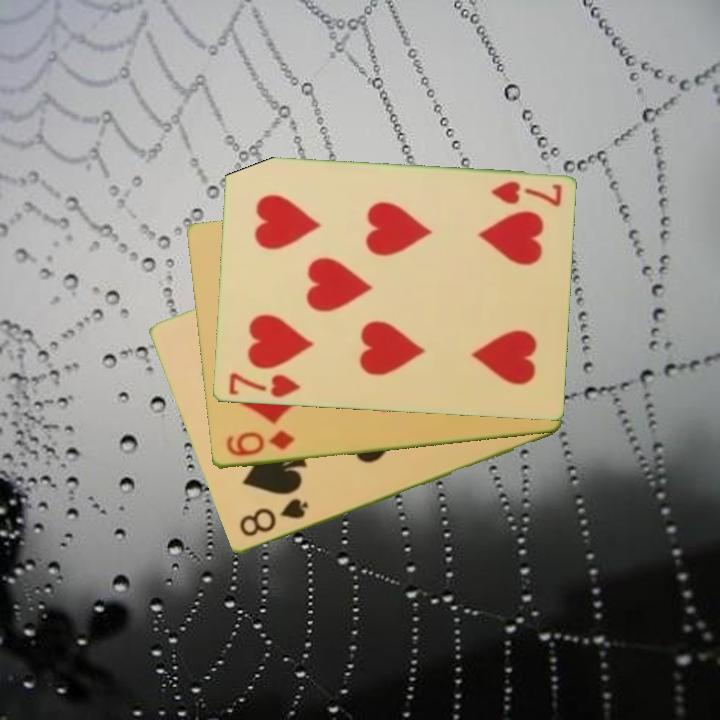6d: (222, 427, 298, 460)
7h: (225, 369, 303, 401), (487, 178, 564, 210)
8s: (235, 495, 311, 541)
